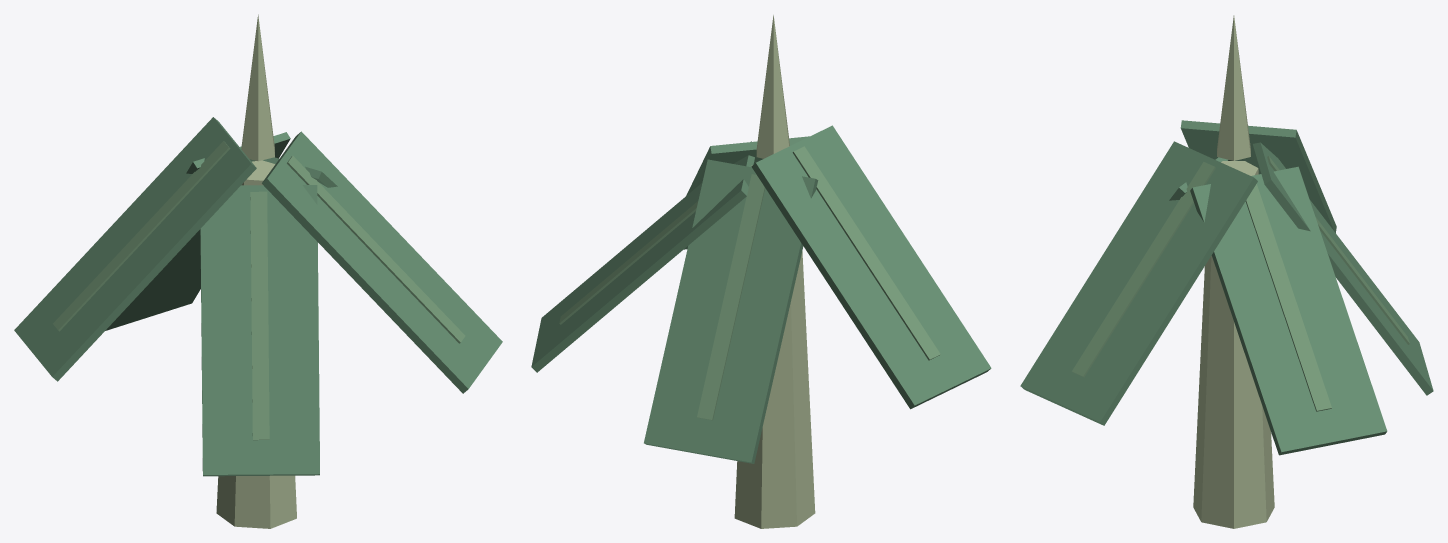
Rendered from banana_plant.glb.
3 views of the same model, side by side, from view 1: azimuth 30°, elevation 25°; view 2: azimuth 150°, elevation 25°; view 3: azimuth 270°, elevation 25° (orthographic).
Parts seen in each view (by area): view 1: geometry_0; view 2: geometry_0; view 3: geometry_0.
Boxes of the visible parts, left/top/right/bottom form: geometry_0: left=14, top=14, right=502, bottom=528; geometry_0: left=531, top=15, right=991, bottom=528; geometry_0: left=1020, top=15, right=1433, bottom=528.
Size of the model in its own units: 1.74 by 1.97 by 1.48.
